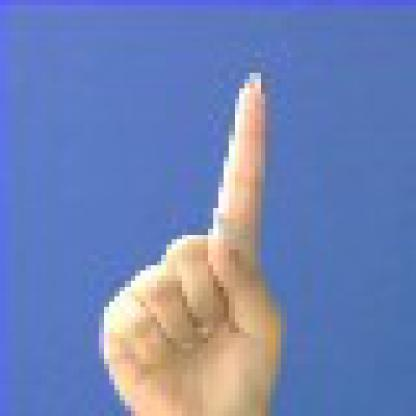one: (78, 62, 317, 411)
